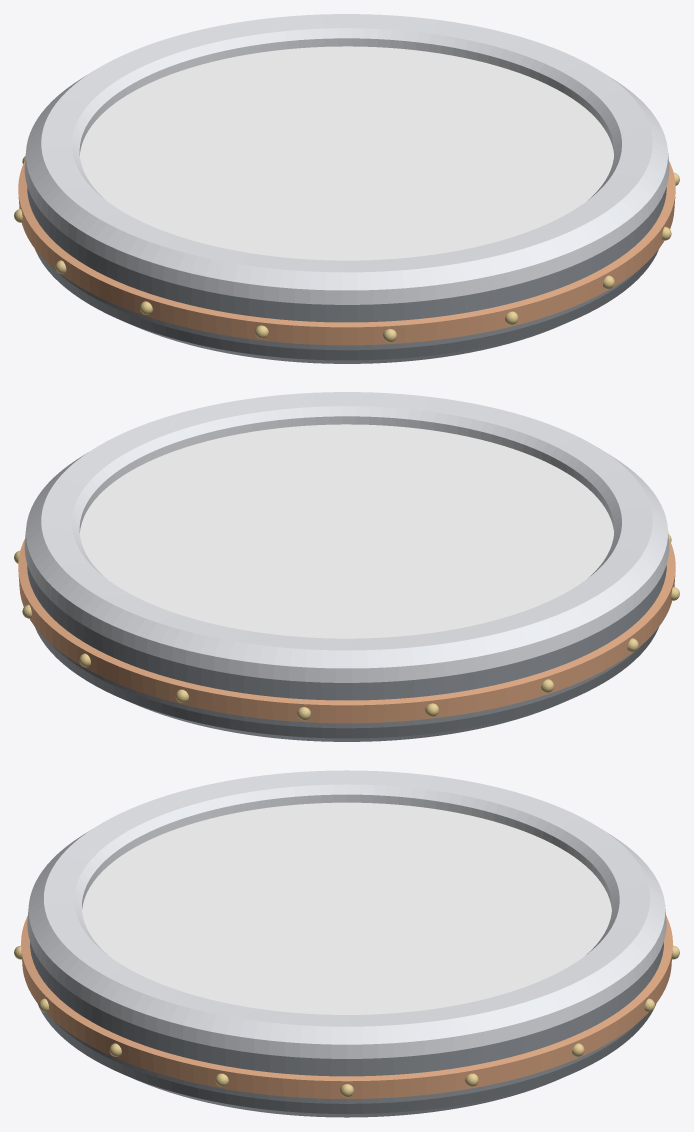
File: tile.glb
3 views of the same model, one above another, from view 1: azimuth 30°, elevation 25°; view 2: azimuth 150°, elevation 25°; view 3: azimuth 270°, elevation 25° (orthographic).
Visible parts, largest first — view 1: face, rim, body, side_band; view 2: face, rim, body, side_band; view 3: face, rim, body, side_band.
Part boxes in pixels (x1,y1,x2,y2): face: (80, 46, 613, 260); rim: (24, 14, 669, 304); body: (27, 187, 666, 363); side_band: (18, 160, 675, 345); face: (80, 424, 613, 638); rim: (24, 392, 669, 682); body: (27, 565, 666, 741); side_band: (18, 538, 675, 723); face: (82, 802, 611, 1014); rim: (27, 770, 666, 1058); body: (30, 942, 663, 1117); side_band: (21, 915, 672, 1098).
Bounding box in the file's own units: 1.05 × 0.164 × 1.05.
